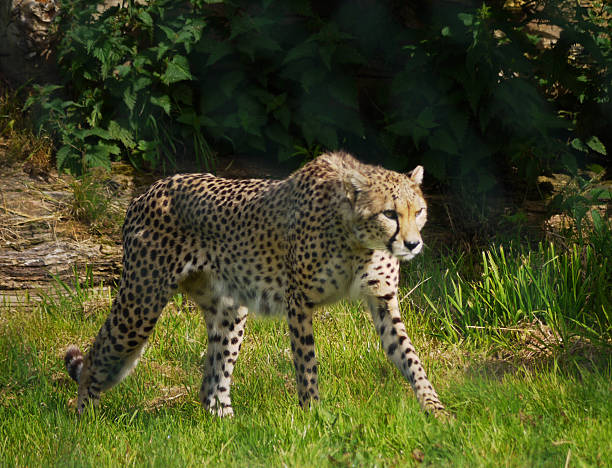cheetah: (326, 157, 437, 274)
